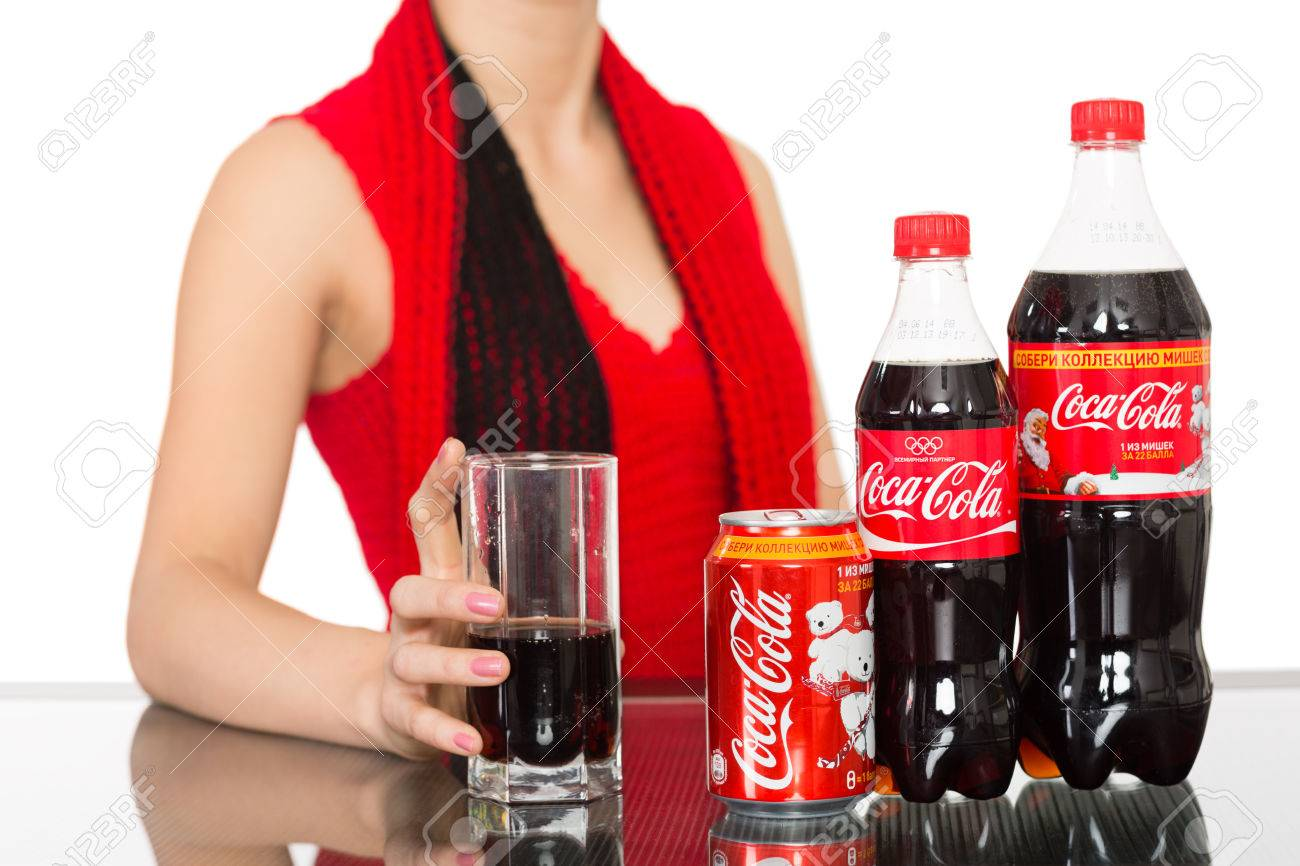coke: (1024, 84, 1217, 799), (851, 216, 1025, 793), (702, 513, 869, 818)
